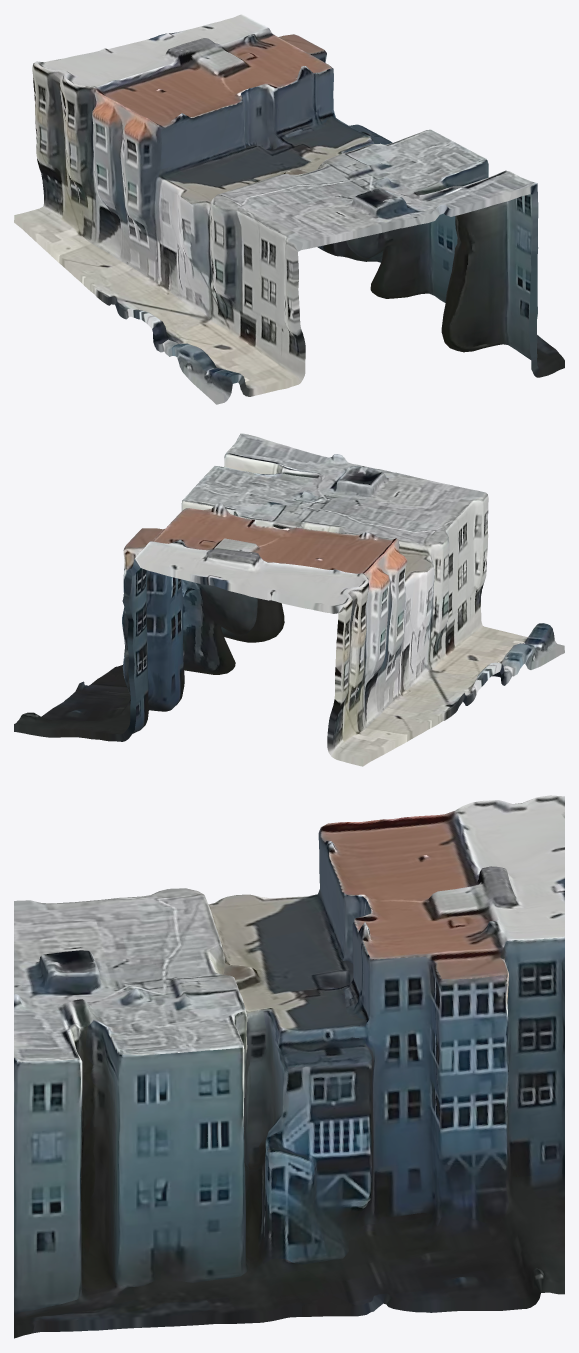
Rendered from z20-167727-405197-h0-yup-uvflip-v3-world.glb.
The picture shows the model from 3 angles, top to bottom: view 1: azimuth 30°, elevation 25°; view 2: azimuth 150°, elevation 25°; view 3: azimuth 270°, elevation 25°; orthographic projection. The views are drawn at different scales.
Bounding box in the file's own units: 30.2 × 20.24 × 30.32.
Materials: 1 (1 with a texture image).
